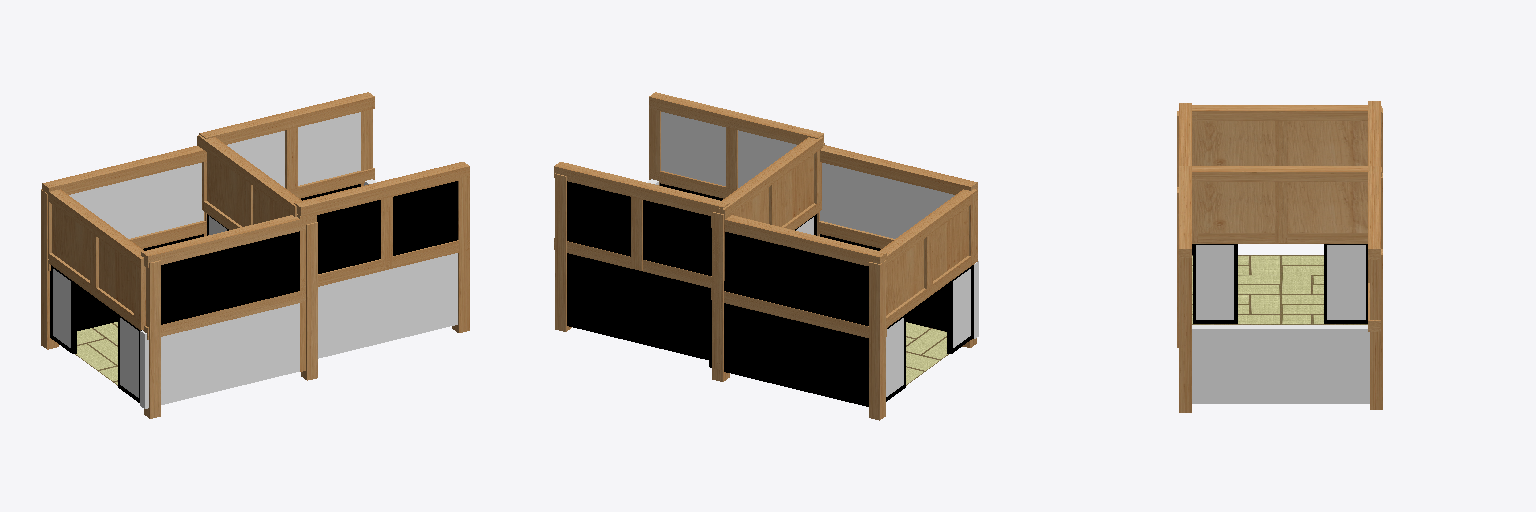
3 renders of one model, left to right at view 1: azimuth 30°, elevation 25°; view 2: azimuth 150°, elevation 25°; view 3: azimuth 270°, elevation 25°, orthographic.
Visible parts, largest first — view 1: mid pCube6, mid pCube1, mid group7 pCube7, mid pCube10, mid group4 pCube7, mid group3 pCube7, mid group5 pCube23, mid pCube14, mid pCube15 group3, mid pCube15 group7, mid pCube15 group4, mid group1 pCube23 (+20 smaller); view 2: mid pCube2, mid pCube5, mid group4 pCube7, mid group3 pCube7, mid group7 pCube7, mid pCube10, mid group5 pCube23, mid pCube14, mid pCube15 group3, mid pCube15 group4, mid pCube15 group7, mid group4 pCube8 (+19 smaller); view 3: mid pCube3, mid group1 pCube23, mid group5 pCube23, mid door2 pCube29, mid door1 pCube29, mid pCube21 group5, mid pCube21 group1, mid pCube12, mid group3 pCube11, mid floor1 pPlane2, mid group1 pCube20, mid floor1 pPlane3 (+8 smaller).
Boxes of the visible parts, <box> form: mid pCube6: <box>140,303,299,408</box>; mid pCube1: <box>318,253,457,358</box>; mid group7 pCube7: <box>161,231,299,324</box>; mid pCube10: <box>317,181,457,273</box>; mid group4 pCube7: <box>69,163,203,238</box>; mid group3 pCube7: <box>227,112,360,187</box>; mid group5 pCube23: <box>52,204,133,312</box>; mid pCube14: <box>294,162,469,218</box>; mid pCube15 group3: <box>199,92,374,144</box>; mid pCube15 group7: <box>141,215,316,267</box>; mid pCube15 group4: <box>42,146,206,199</box>; mid group1 pCube23: <box>207,152,288,226</box>; mid pCube2: <box>567,253,711,360</box>; mid pCube5: <box>724,303,868,406</box>; mid group4 pCube7: <box>724,232,868,325</box>; mid group3 pCube7: <box>567,181,711,275</box>; mid group7 pCube7: <box>820,163,954,238</box>; mid pCube10: <box>661,112,796,187</box>; mid group5 pCube23: <box>886,207,968,315</box>; mid pCube14: <box>649,92,823,144</box>; mid pCube15 group3: <box>554,162,729,215</box>; mid pCube15 group4: <box>711,215,886,265</box>; mid pCube15 group7: <box>820,145,977,194</box>; mid group4 pCube8: <box>869,260,885,420</box>; mid pCube3: <box>1192,325,1369,403</box>; mid group1 pCube23: <box>1198,182,1367,232</box>; mid group5 pCube23: <box>1198,121,1367,165</box>; mid door2 pCube29: <box>1327,245,1365,319</box>; mid door1 pCube29: <box>1196,245,1233,319</box>; mid pCube21 group5: <box>1192,105,1367,120</box>; mid pCube21 group1: <box>1192,166,1367,181</box>; mid pCube12: <box>1179,258,1191,412</box>; mid group3 pCube11: <box>1370,249,1382,409</box>; mid floor1 pPlane2: <box>1192,255,1280,294</box>; mid group1 pCube20: <box>1192,233,1367,243</box>; mid floor1 pPlane3: <box>1281,255,1323,294</box>.
Size of the model in its own units: 40.62 by 20.66 by 22.18.
Materials: 7 (2 with a texture image).